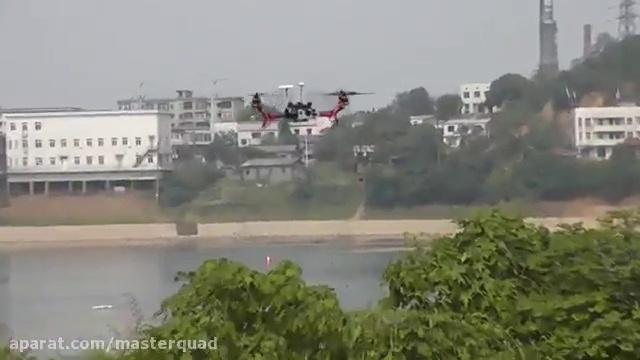drone: (238, 82, 374, 130)
